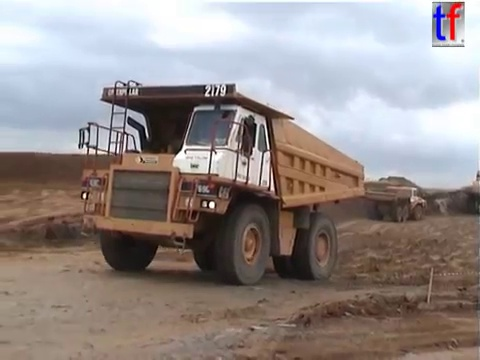excavator: (473, 169, 480, 200)
truck: (75, 77, 367, 288), (355, 177, 428, 222), (458, 182, 480, 214)
